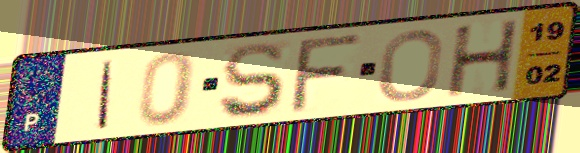0: (135, 48, 199, 129)
F: (286, 31, 368, 116)
H: (445, 17, 523, 100)
I: (93, 59, 117, 131)
O: (375, 27, 446, 104)
S: (216, 40, 287, 121)
